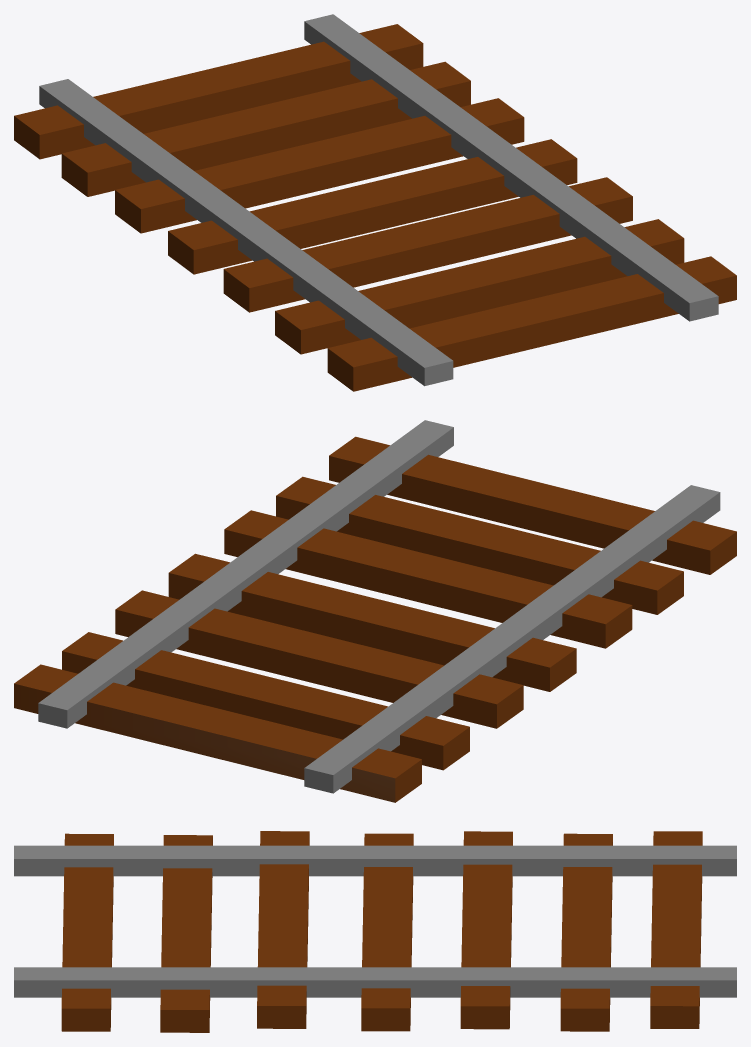
Rendered from Track.fbx.
The picture shows the model from 3 angles, top to bottom: view 1: azimuth 30°, elevation 25°; view 2: azimuth 150°, elevation 25°; view 3: azimuth 270°, elevation 25°; orthographic projection. The views are drawn at different scales.
Parts seen in each view (by area): view 1: Cube.008; view 2: Cube.008; view 3: Cube.008.
Boxes of the visible parts, x1,y1,x2,y2 form: Cube.008: (14,14,736,391); Cube.008: (14,420,736,802); Cube.008: (14,831,736,1032).
Size of the model in its own units: 4.25 by 0.3652 by 7.42.
